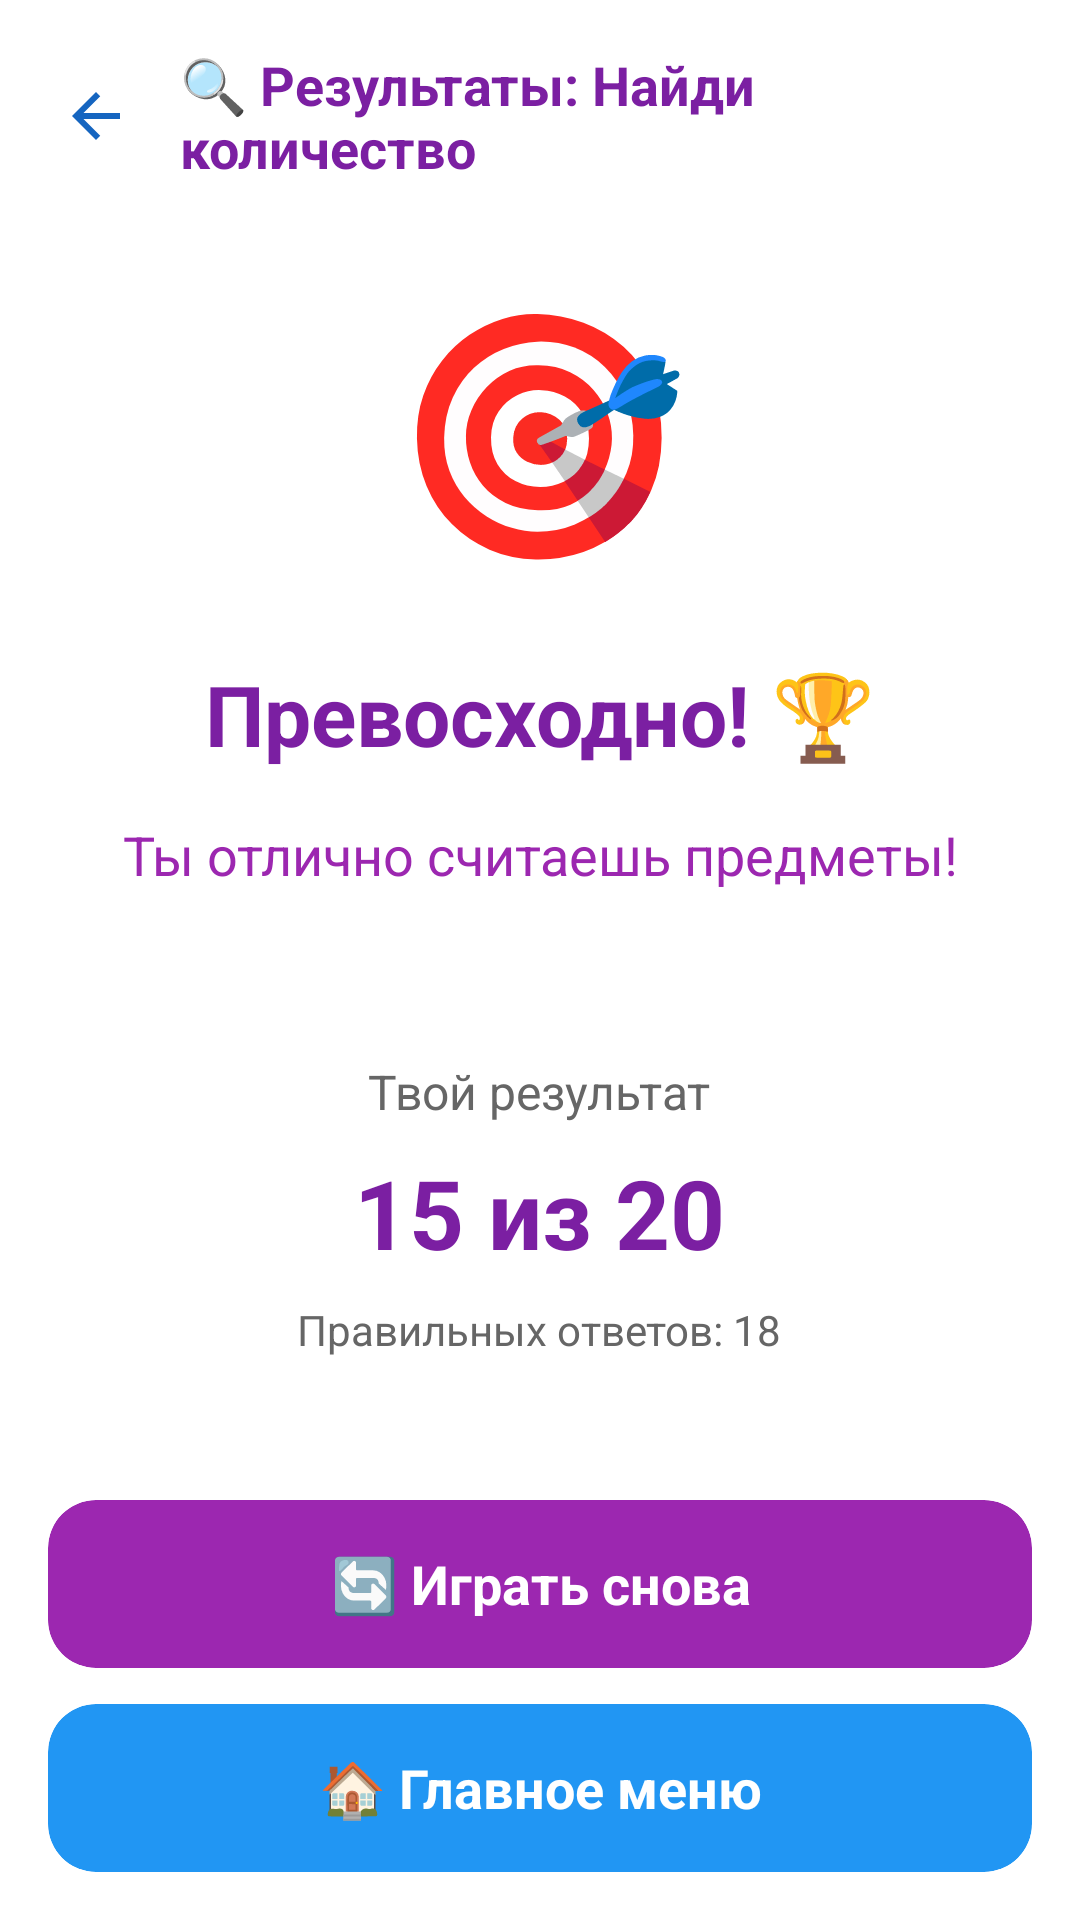

Named icons in this screenshot (1080*1920) and their bounding boxes, [x1, y1, x2, y2]:
Назад: [72, 92, 120, 140]
